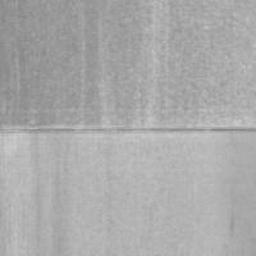Welding line: (0, 125, 256, 136)
